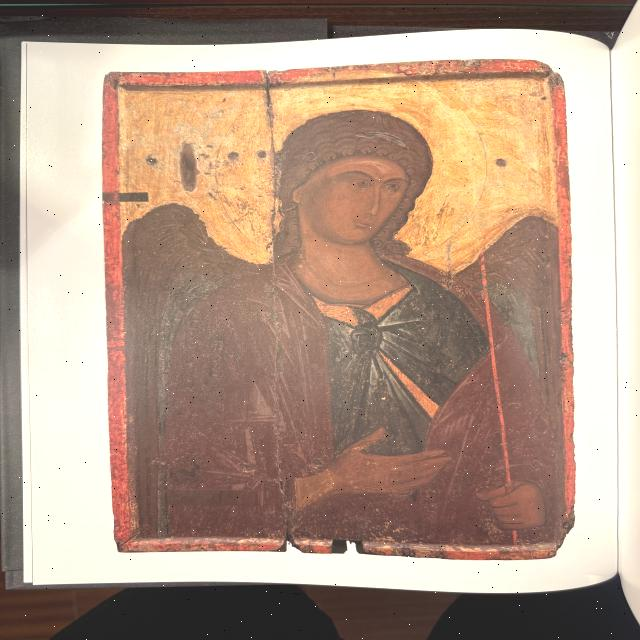angel: (133, 71, 565, 540)
aura: (212, 70, 504, 256)
scepter: (462, 206, 532, 548)
wing: (124, 187, 271, 542), (446, 213, 560, 547)
